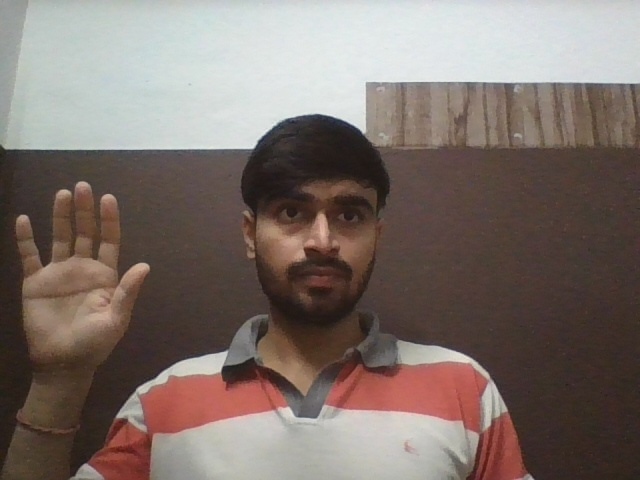Hello: (15, 182, 149, 370)
